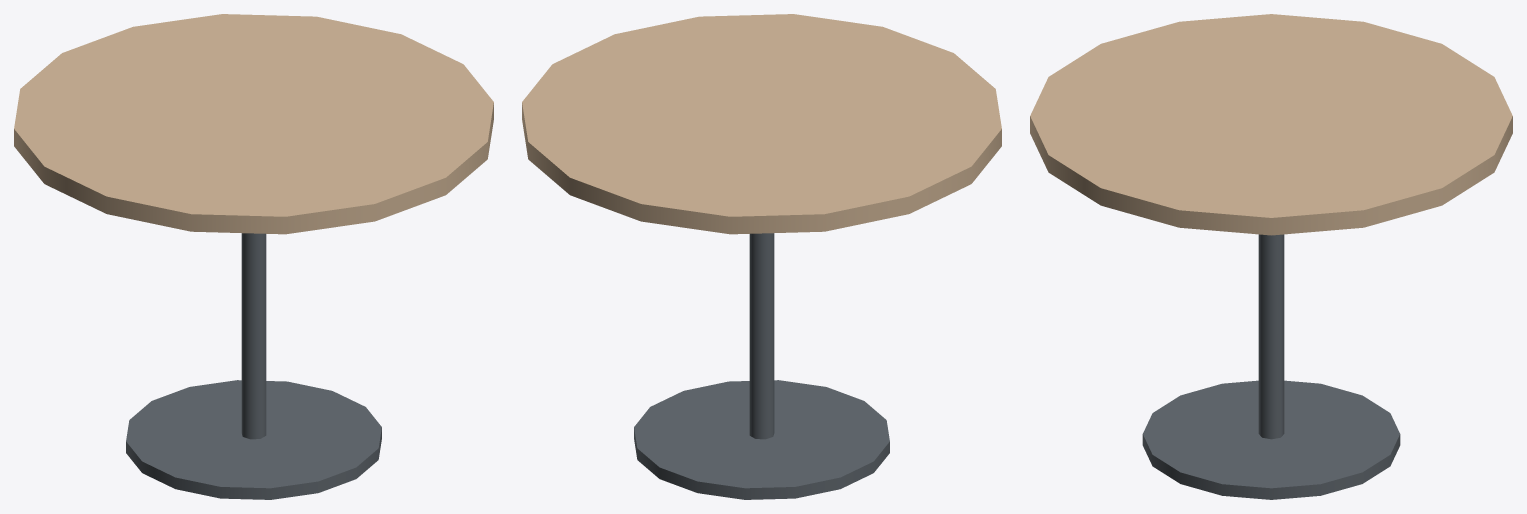
The model's file is outdoor_table.glb.
The picture shows the model from 3 angles, left to right: view 1: azimuth 30°, elevation 25°; view 2: azimuth 150°, elevation 25°; view 3: azimuth 270°, elevation 25°; orthographic projection.
Parts seen in each view (by area): view 1: RootNode; view 2: RootNode; view 3: RootNode.
Part boxes in pixels (<box>): RootNode: <box>14,14,493,499</box>; RootNode: <box>522,14,1001,499</box>; RootNode: <box>1030,14,1512,499</box>.
Size of the model in its own units: 3 by 2.26 by 3.
